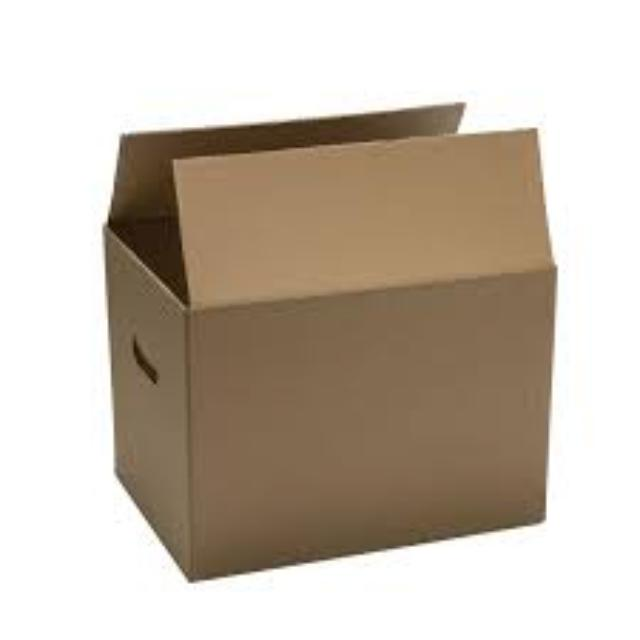cardboard paper: (102, 100, 549, 572)
